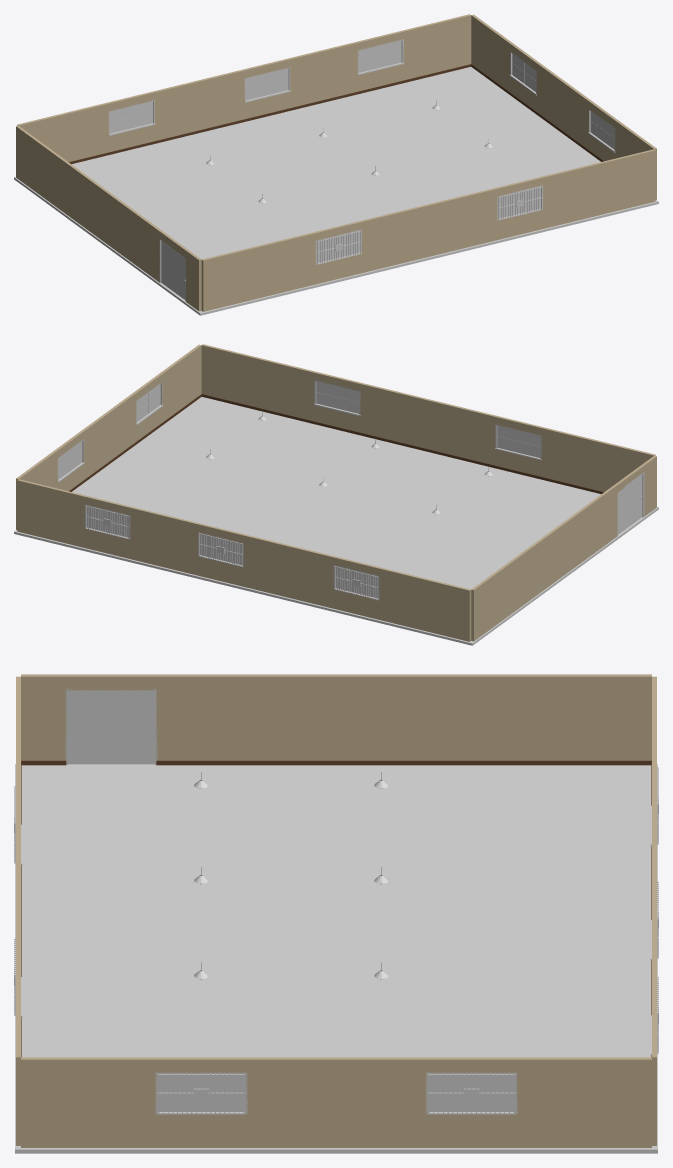
Rendered from room-hall-parquet.glb.
3 renders of one model, top to bottom at view 1: azimuth 30°, elevation 25°; view 2: azimuth 150°, elevation 25°; view 3: azimuth 270°, elevation 25°, orthographic. The views are drawn at different scales.
Parts seen in each view (by area): view 1: floor, wall_front, wall_back, wall_left, wall_right, glass_wall_back, room-hall-parquet, glass_wall_front, glass_wall_right; view 2: floor, wall_back, wall_front, wall_left, wall_right, room-hall-parquet, glass_wall_back, glass_wall_front, glass_wall_right; view 3: floor, wall_left, wall_right, glass_wall_right, room-hall-parquet, wall_back, wall_front.
Part boxes in pixels (x1,y1,x2,y2): floor: [72, 67, 600, 259]; wall_front: [201, 149, 655, 311]; wall_back: [17, 14, 471, 164]; wall_left: [16, 125, 201, 311]; wall_right: [471, 14, 656, 199]; glass_wall_back: [110, 41, 401, 133]; room-hall-parquet: [14, 100, 658, 315]; glass_wall_front: [317, 187, 540, 262]; glass_wall_right: [512, 54, 614, 149]; floor: [72, 397, 600, 589]; wall_back: [17, 479, 471, 641]; wall_front: [201, 344, 655, 494]; wall_left: [471, 455, 656, 641]; wall_right: [16, 344, 201, 529]; room-hall-parquet: [14, 411, 658, 645]; glass_wall_back: [87, 506, 378, 598]; glass_wall_front: [316, 382, 539, 457]; glass_wall_right: [58, 384, 160, 479]; floor: [21, 765, 651, 1057]; wall_left: [21, 674, 651, 765]; wall_right: [21, 1057, 651, 1147]; glass_wall_right: [158, 1075, 513, 1111]; room-hall-parquet: [15, 764, 657, 1153]; wall_back: [650, 676, 658, 1145]; wall_front: [14, 676, 22, 1145].
Size of the model in its own units: 24.35 by 2.75 by 17.18.
